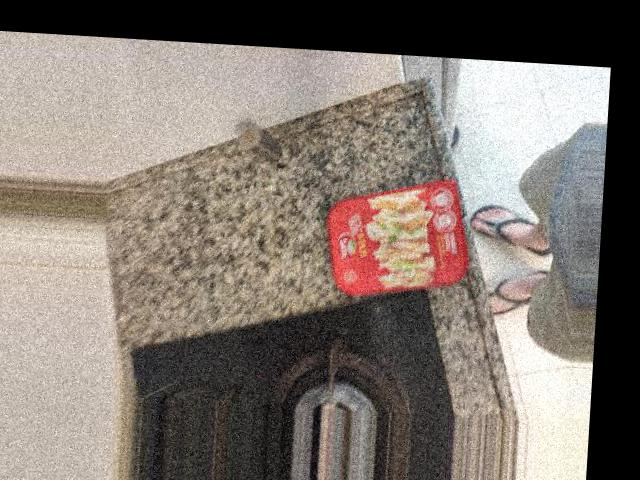cheese: (328, 169, 492, 302)
